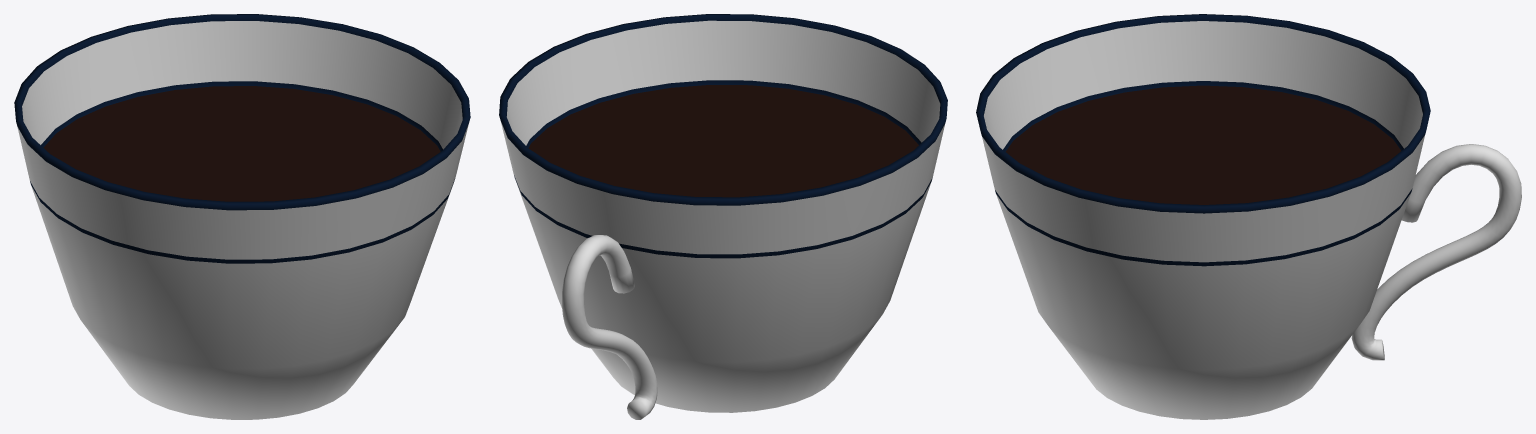
File: FMC_Coffee.fbx
The picture shows the model from 3 angles, left to right: view 1: azimuth 30°, elevation 25°; view 2: azimuth 150°, elevation 25°; view 3: azimuth 270°, elevation 25°; orthographic projection.
Visible parts, largest first — view 1: Coffee; view 2: Coffee; view 3: Coffee.
Boxes of the visible parts, x1=… form: Coffee: x1=14, y1=14, x2=470, y2=419; Coffee: x1=499, y1=14, x2=947, y2=419; Coffee: x1=976, y1=14, x2=1521, y2=419.
Size of the model in its own units: 12.89 by 8.22 by 15.47.
